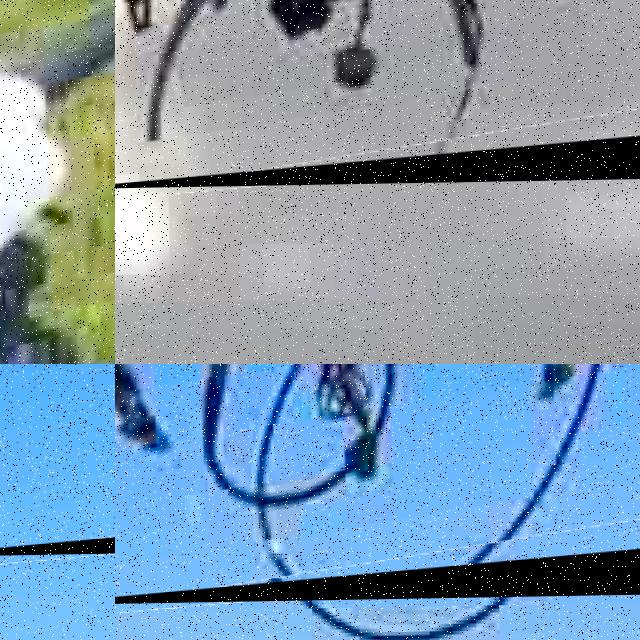drone: (115, 364, 640, 604), (115, 0, 640, 188), (0, 0, 115, 364), (0, 364, 115, 556)
